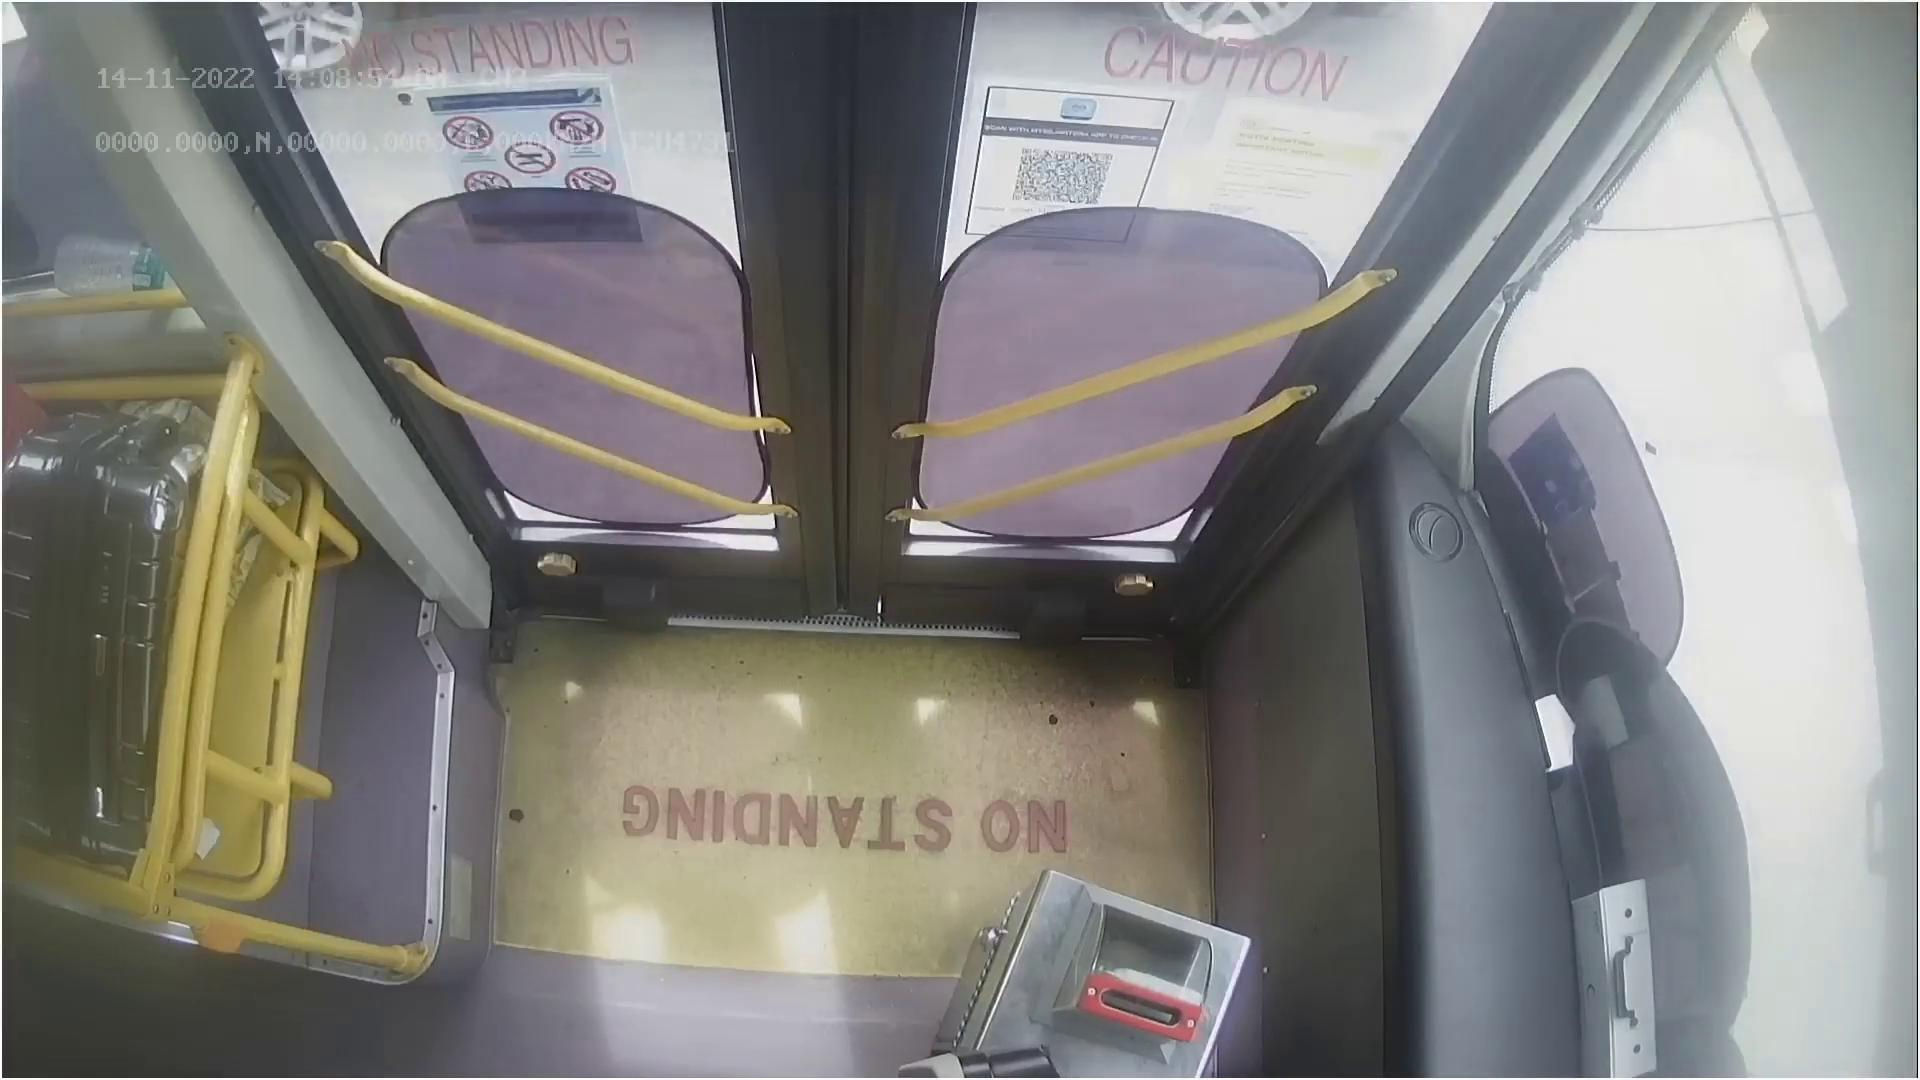close: (284, 0, 1448, 152)
